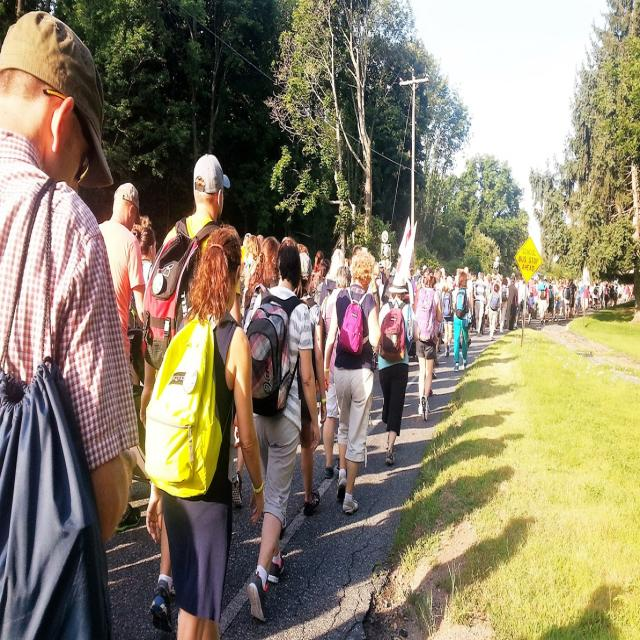body: (0, 6, 142, 639), (250, 328, 538, 640), (141, 218, 268, 639), (138, 150, 242, 633), (240, 244, 323, 624), (96, 181, 148, 535), (386, 262, 634, 334), (323, 248, 384, 517), (230, 231, 387, 329), (377, 271, 422, 467), (294, 250, 326, 518), (319, 263, 354, 482), (319, 264, 353, 484), (542, 578, 631, 640), (412, 270, 443, 422), (241, 234, 281, 338), (451, 271, 473, 373), (317, 247, 346, 308), (131, 225, 157, 283), (440, 274, 456, 358), (484, 282, 501, 342), (473, 270, 487, 336), (496, 276, 509, 334), (128, 212, 152, 242), (536, 275, 550, 326), (463, 265, 474, 326), (508, 274, 519, 331), (310, 250, 325, 290), (377, 244, 393, 279), (544, 276, 554, 323), (518, 278, 528, 323), (568, 277, 577, 319), (526, 285, 535, 325), (563, 280, 572, 320), (590, 282, 600, 312), (603, 283, 610, 309)
